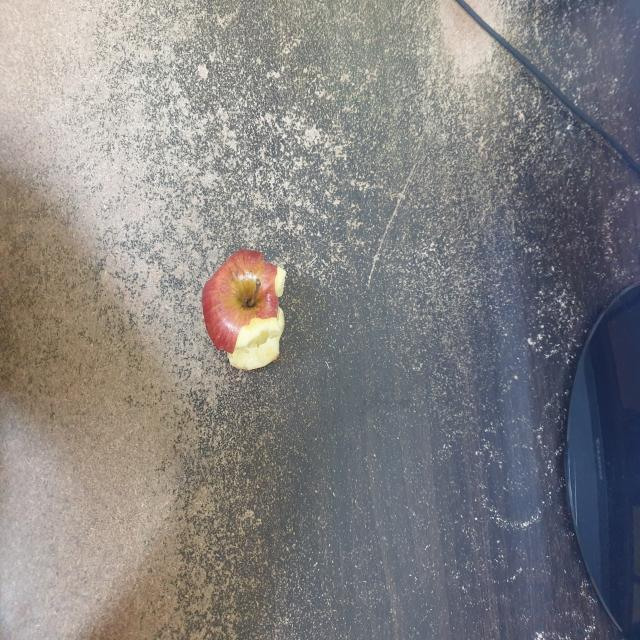apple: (188, 242, 304, 380)
